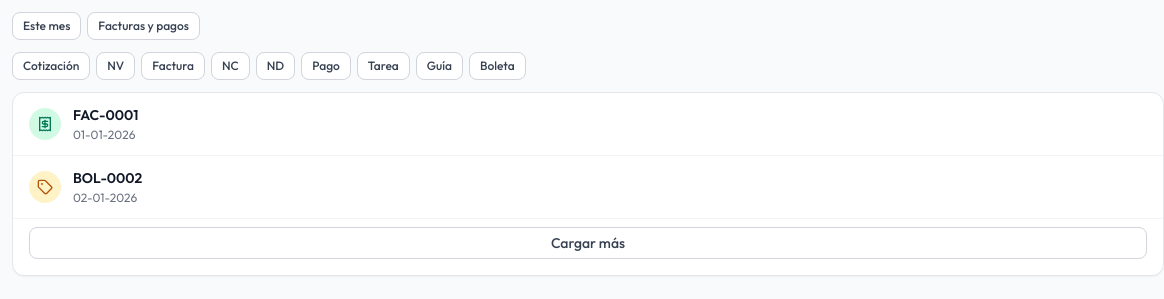
Test: Timeline › 5. botón Cargar más aparece si hay más items; click carga segunda página y renderiza sus items
The image size is (1164, 299).
Check: the text "FAC-0001" is shown, box [73, 106, 138, 124]
Check: the text "BOL-0002" is shown, box [73, 169, 142, 187]
Click the button "Cargar más": click(588, 243) [29, 227, 1147, 259]
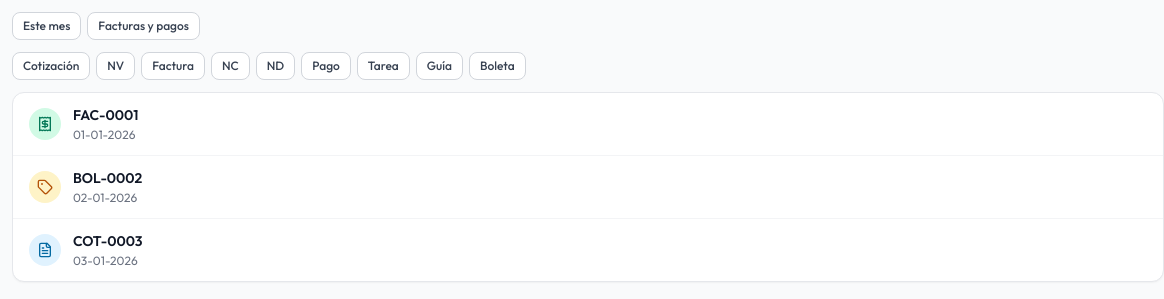
Check: the text "FAC-0001" is shown, box [73, 106, 138, 124]
Check: the text "COT-0003" is shown, box [73, 232, 143, 250]
